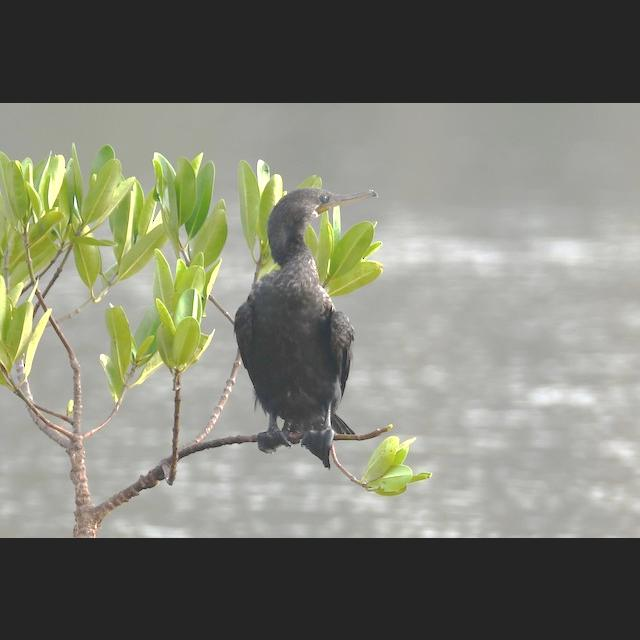cormorant: (228, 176, 386, 488)
